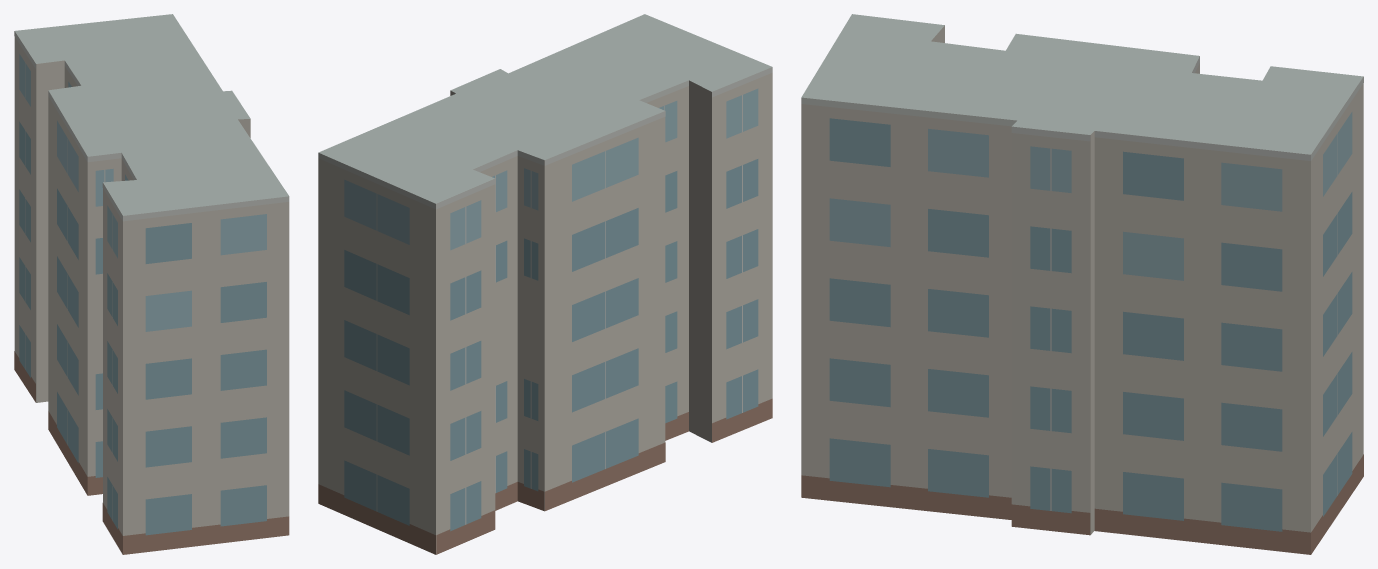
File: survey-upis-32997335.glb
The picture shows the model from 3 angles, left to right: view 1: azimuth 30°, elevation 25°; view 2: azimuth 150°, elevation 25°; view 3: azimuth 270°, elevation 25°; orthographic projection. The views are drawn at different scales.
Visible parts, largest first — view 1: survey-upis-32997335.tmp; view 2: survey-upis-32997335.tmp; view 3: survey-upis-32997335.tmp.
Boxes of the visible parts, box(x1,y1,x2,y2) form: survey-upis-32997335.tmp: box(14, 14, 289, 554); survey-upis-32997335.tmp: box(318, 14, 772, 554); survey-upis-32997335.tmp: box(801, 14, 1363, 554).
Bounding box in the file's own units: 11.48 × 15.2 × 19.37.
